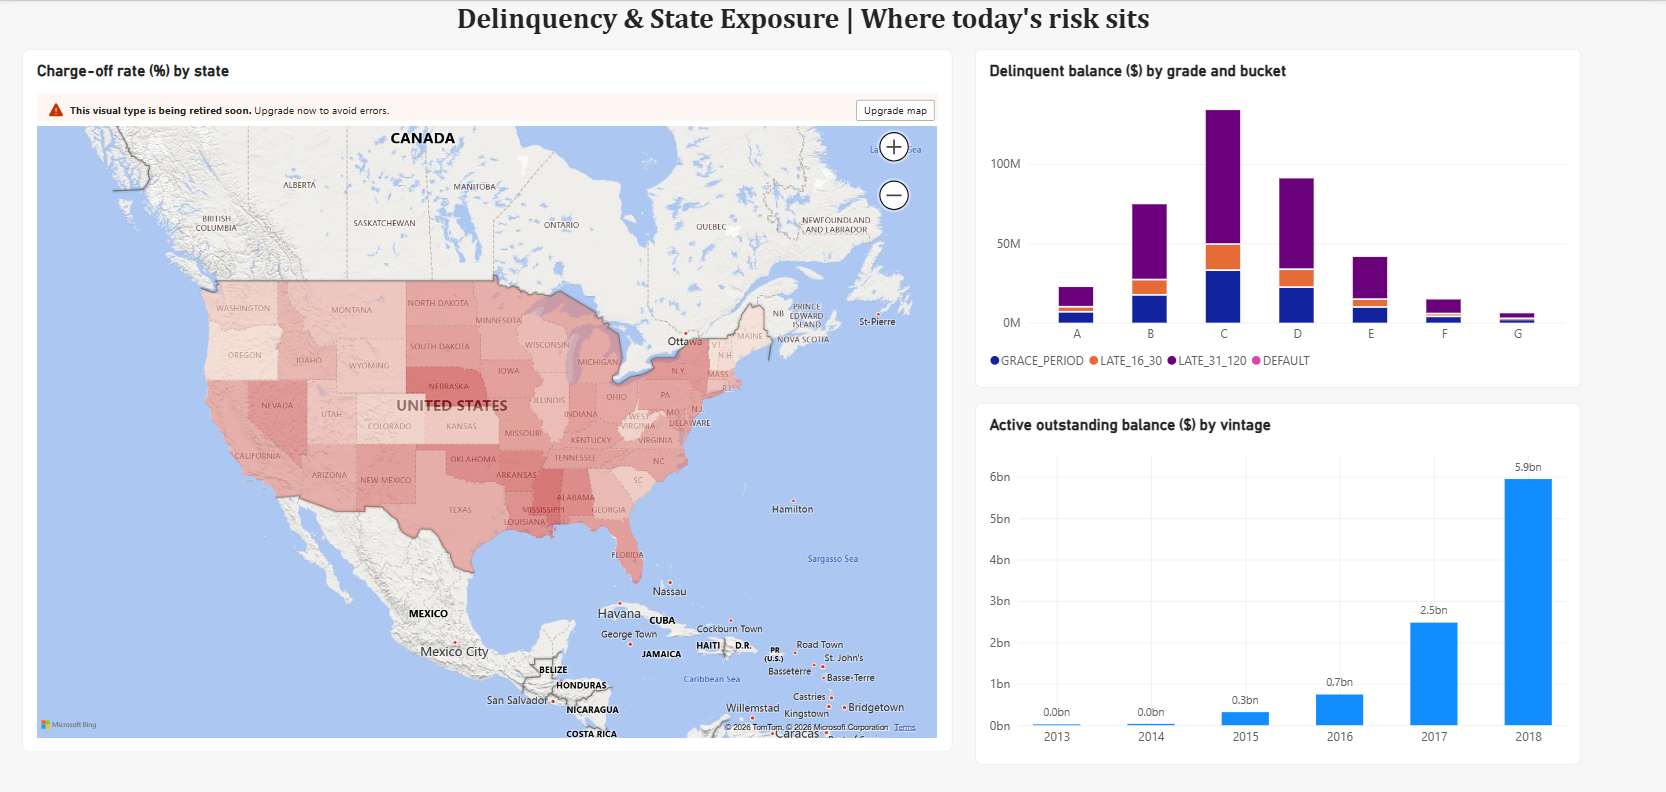

The page's visual inventory and layout, read from the dashboard file:
{"tool":"powerbi","page":{"name":"Delinquency & States","canvas":[1920,1080],"ordinal":3},"visuals":[{"type":"textbox","box":[10.1,0,1830.9,38.5],"z":0},{"type":"filledMap","title":"Charge-off rate (%) by state","fields":{"Category":["pbi_risk_by_state.STATE"]},"box":[25.9,55.3,1072.1,811],"z":1},{"type":"columnChart","title":"Delinquent balance ($) by grade and bucket","fields":{"Category":["pbi_delinquency_buckets.GRADE"],"Series":["pbi_delinquency_buckets.BUCKET"],"Y":["Sum(pbi_delinquency_buckets.OUTSTANDING_PRINCIPAL)"]},"box":[1124,55.3,698.6,390.8],"z":2},{"type":"clusteredColumnChart","title":"Active outstanding balance ($) by vintage","fields":{"Category":["pbi_delinquency_buckets.VINTAGE_YEAR"],"Y":["Sum(pbi_delinquency_buckets.OUTSTANDING_PRINCIPAL)"]},"box":[1124,463.4,698.6,416.7],"z":3}]}

Visuals, with their boxes on the page's 1920x1080 design canvas (x1, y1, x2, y2). These are canvas units, not pixel positions in the 1666x792 screenshot, which may show the page scaled, cropped or inside an application window:
textbox: 10 0 1841 38
"Charge-off rate (%) by state" filledMap: 26 55 1098 866
"Delinquent balance ($) by grade and bucket" columnChart: 1124 55 1823 446
"Active outstanding balance ($) by vintage" clusteredColumnChart: 1124 463 1823 880
